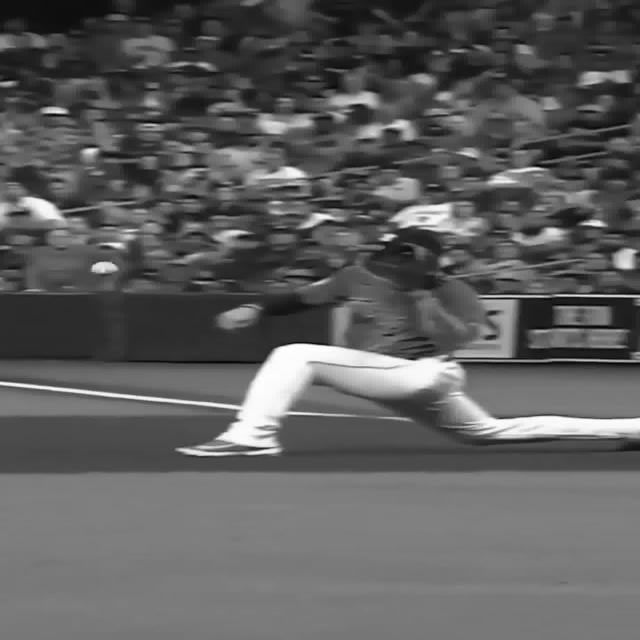baseball: (93, 262, 122, 278)
baseball_glove: (364, 242, 441, 288)
shoe: (173, 434, 282, 457)
